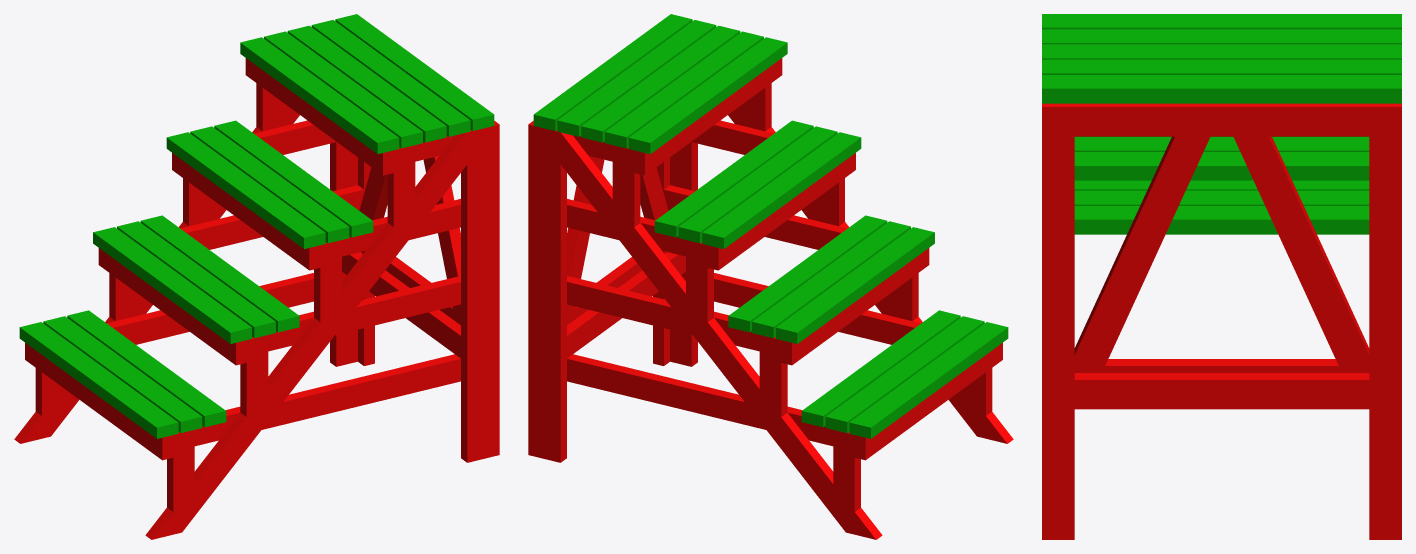
Rendered from result.glb.
3 views of the same model, side by side, from view 1: azimuth 30°, elevation 25°; view 2: azimuth 150°, elevation 25°; view 3: azimuth 270°, elevation 25° (orthographic). The views are drawn at different scales.
Visible parts, largest first — view 1: 32755b18-32cd-4ae6-9341-7969ad4259c8__undefined, 243fe7e4-c7d6-49d8-bd1c-4b1626d647e3__undefined, 76caf626-17a6-4449-850a-a48d0bef6b4e__undefined, bc119fc8-d26c-43bc-b0d3-b4737ca78e3b__undefined, 0cdbb6f1-773e-4f14-a95c-3b492ddcc9ff__undefined, 9e78c38d-2f0d-43e9-b7af-f0e97614c326__undefined, 93f739da-bb4a-42b7-bd9a-b5771267d47a__undefined, 49d60cca-3c7d-47a4-9d37-007ed55ff9a0__undefined, e11582fc-022a-41d8-bd1e-849ffd85a59d__undefined, f6db7d2f-5b27-44c5-aa3c-d24198de55e4__undefined, cc4e2a99-9f2b-4625-afb9-944a72c176dc__undefined, ddc2828f-64bb-4f63-9d37-0e2bb0e10d13__undefined (+31 smaller); view 2: 2cc9fb28-c0ef-4ca9-a765-32b017508612__undefined, 57b8e07c-5e91-4df8-b2f3-74ac1f6eb098__undefined, 9f21efbc-5b78-4b19-b7cb-caf75b4ad152__undefined, bc119fc8-d26c-43bc-b0d3-b4737ca78e3b__undefined, 0cdbb6f1-773e-4f14-a95c-3b492ddcc9ff__undefined, 9e78c38d-2f0d-43e9-b7af-f0e97614c326__undefined, 93f739da-bb4a-42b7-bd9a-b5771267d47a__undefined, c3d9252e-68f9-47fa-afaf-3543038fb150__undefined, e11582fc-022a-41d8-bd1e-849ffd85a59d__undefined, f6db7d2f-5b27-44c5-aa3c-d24198de55e4__undefined, cc4e2a99-9f2b-4625-afb9-944a72c176dc__undefined, ddc2828f-64bb-4f63-9d37-0e2bb0e10d13__undefined (+32 smaller); view 3: eda8f15d-5ab1-438b-b68c-7210c9f93ab2__undefined, 04e8df3e-92a2-4a3d-8c44-0d53441f7f25__undefined, a37f37a8-f2d8-4aa8-9af9-e09a82ab2401__undefined (×2), 142b97aa-fabb-4103-9ecf-ce04c9439d6d__undefined, 717b0521-c3a6-42c5-9886-a6d04ea9162a__undefined, cc4e2a99-9f2b-4625-afb9-944a72c176dc__undefined, 4303ed69-c877-4f58-8ce9-468334bb3e9d__undefined, 59f6e879-a4e9-4300-aeec-390603afdc9d__undefined, f6db7d2f-5b27-44c5-aa3c-d24198de55e4__undefined, 0cdbb6f1-773e-4f14-a95c-3b492ddcc9ff__undefined, 3db880c1-fd8a-4fe7-b4c4-f3dbaf350c44__undefined, 21ee6ab3-359e-4ddb-8b14-5598b1d70eff__undefined (+5 smaller).
Boxes of the visible parts, bbox=[...] form: 32755b18-32cd-4ae6-9341-7969ad4259c8__undefined: bbox=[145, 132, 467, 539]; 243fe7e4-c7d6-49d8-bd1c-4b1626d647e3__undefined: bbox=[461, 127, 488, 462]; 76caf626-17a6-4449-850a-a48d0bef6b4e__undefined: bbox=[194, 354, 460, 446]; bc119fc8-d26c-43bc-b0d3-b4737ca78e3b__undefined: bbox=[166, 132, 325, 248]; 0cdbb6f1-773e-4f14-a95c-3b492ddcc9ff__undefined: bbox=[240, 37, 399, 154]; 9e78c38d-2f0d-43e9-b7af-f0e97614c326__undefined: bbox=[19, 322, 178, 438]; 93f739da-bb4a-42b7-bd9a-b5771267d47a__undefined: bbox=[93, 227, 251, 343]; 49d60cca-3c7d-47a4-9d37-007ed55ff9a0__undefined: bbox=[268, 276, 460, 351]; e11582fc-022a-41d8-bd1e-849ffd85a59d__undefined: bbox=[214, 120, 373, 237]; f6db7d2f-5b27-44c5-aa3c-d24198de55e4__undefined: bbox=[67, 310, 226, 427]; cc4e2a99-9f2b-4625-afb9-944a72c176dc__undefined: bbox=[335, 14, 494, 130]; ddc2828f-64bb-4f63-9d37-0e2bb0e10d13__undefined: bbox=[43, 316, 202, 432]; 2cc9fb28-c0ef-4ca9-a765-32b017508612__undefined: bbox=[560, 132, 882, 539]; 57b8e07c-5e91-4df8-b2f3-74ac1f6eb098__undefined: bbox=[539, 127, 566, 462]; 9f21efbc-5b78-4b19-b7cb-caf75b4ad152__undefined: bbox=[567, 354, 833, 446]; bc119fc8-d26c-43bc-b0d3-b4737ca78e3b__undefined: bbox=[702, 132, 861, 248]; 0cdbb6f1-773e-4f14-a95c-3b492ddcc9ff__undefined: bbox=[628, 37, 787, 154]; 9e78c38d-2f0d-43e9-b7af-f0e97614c326__undefined: bbox=[849, 322, 1008, 438]; 93f739da-bb4a-42b7-bd9a-b5771267d47a__undefined: bbox=[776, 227, 934, 343]; c3d9252e-68f9-47fa-afaf-3543038fb150__undefined: bbox=[567, 276, 759, 351]; e11582fc-022a-41d8-bd1e-849ffd85a59d__undefined: bbox=[654, 120, 813, 237]; f6db7d2f-5b27-44c5-aa3c-d24198de55e4__undefined: bbox=[801, 310, 960, 427]; cc4e2a99-9f2b-4625-afb9-944a72c176dc__undefined: bbox=[533, 14, 692, 130]; ddc2828f-64bb-4f63-9d37-0e2bb0e10d13__undefined: bbox=[825, 316, 984, 432]; eda8f15d-5ab1-438b-b68c-7210c9f93ab2__undefined: bbox=[1042, 136, 1074, 539]; 04e8df3e-92a2-4a3d-8c44-0d53441f7f25__undefined: bbox=[1369, 136, 1401, 539]; a37f37a8-f2d8-4aa8-9af9-e09a82ab2401__undefined (×2): bbox=[1074, 136, 1210, 372]; 142b97aa-fabb-4103-9ecf-ce04c9439d6d__undefined: bbox=[1042, 103, 1401, 136]; 717b0521-c3a6-42c5-9886-a6d04ea9162a__undefined: bbox=[1074, 373, 1369, 409]; cc4e2a99-9f2b-4625-afb9-944a72c176dc__undefined: bbox=[1042, 75, 1401, 103]; 4303ed69-c877-4f58-8ce9-468334bb3e9d__undefined: bbox=[1233, 136, 1369, 372]; 59f6e879-a4e9-4300-aeec-390603afdc9d__undefined: bbox=[1074, 152, 1369, 180]; f6db7d2f-5b27-44c5-aa3c-d24198de55e4__undefined: bbox=[1074, 206, 1369, 234]; 0cdbb6f1-773e-4f14-a95c-3b492ddcc9ff__undefined: bbox=[1042, 14, 1401, 29]; 3db880c1-fd8a-4fe7-b4c4-f3dbaf350c44__undefined: bbox=[1042, 29, 1401, 44]; 21ee6ab3-359e-4ddb-8b14-5598b1d70eff__undefined: bbox=[1042, 44, 1401, 59].
Size of the model in its own units: 805 by 755 by 550.
